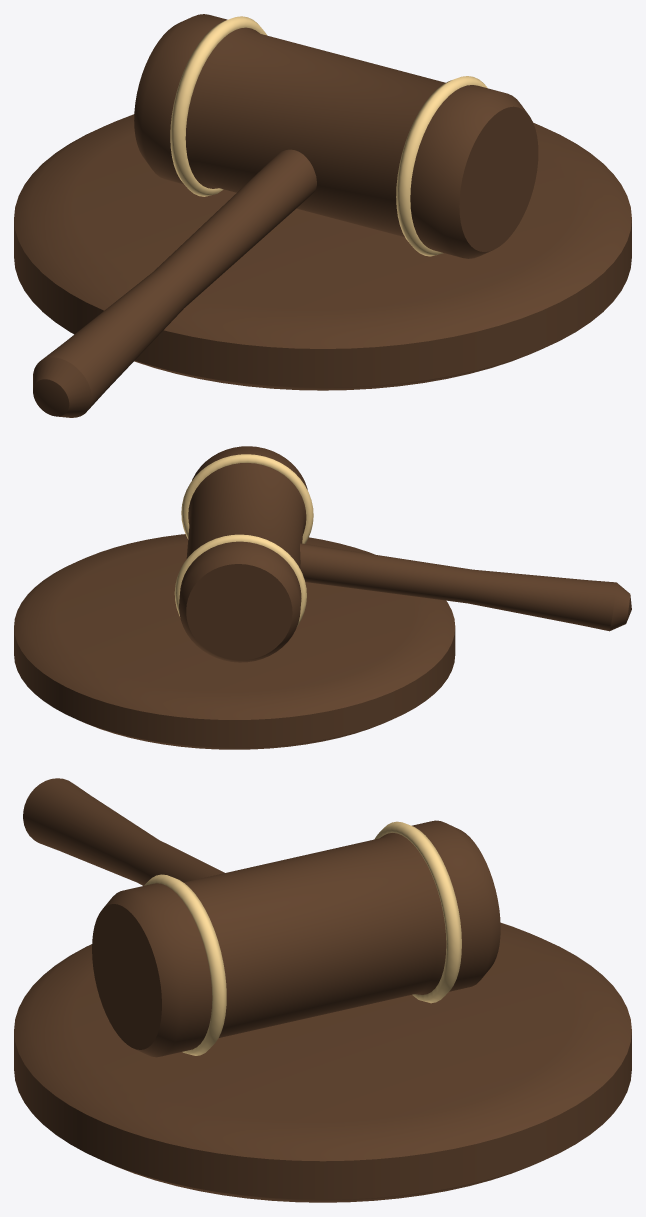
File: gavel.glb
3 views of the same model, one above another, from view 1: azimuth 30°, elevation 25°; view 2: azimuth 150°, elevation 25°; view 3: azimuth 270°, elevation 25° (orthographic). The views are drawn at different scales.
Visible parts, largest first — view 1: block, head, handle, band, band.001; view 2: block, head, handle, band.001, band; view 3: block, head, handle, band, band.001.
Part boxes in pixels (box(x1,y1,x2,y2)): block: box(14, 114, 631, 390); head: box(134, 14, 538, 258); handle: box(33, 149, 316, 417); band: box(170, 16, 267, 196); band.001: box(396, 76, 487, 256); block: box(14, 534, 455, 749); head: box(179, 446, 307, 662); handle: box(300, 543, 631, 631); band.001: box(181, 454, 313, 543); band: box(174, 534, 306, 626); block: box(14, 923, 631, 1202); head: box(92, 820, 500, 1057); handle: box(23, 778, 224, 885); band: box(374, 821, 461, 1003); band.001: box(144, 874, 226, 1055).
Bounding box in the file's own units: 1.49 × 0.464 × 1.16.
